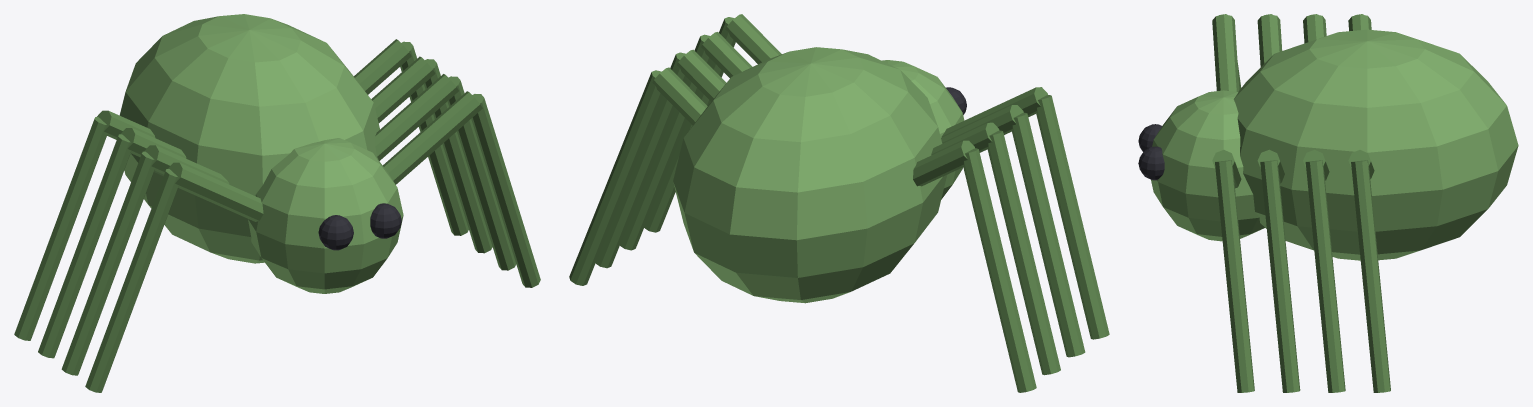
The model's file is creature_spider_green.glb.
3 views of the same model, side by side, from view 1: azimuth 30°, elevation 25°; view 2: azimuth 150°, elevation 25°; view 3: azimuth 270°, elevation 25° (orthographic). The views are drawn at different scales.
Parts seen in each view (by area): view 1: creature_spider_green; view 2: creature_spider_green; view 3: creature_spider_green.
Part boxes in pixels (<box>): creature_spider_green: <box>14,14,540,392</box>; creature_spider_green: <box>569,14,1109,392</box>; creature_spider_green: <box>1138,14,1518,392</box>.
Bounding box in the file's own units: 1.81 × 1 × 1.37.
